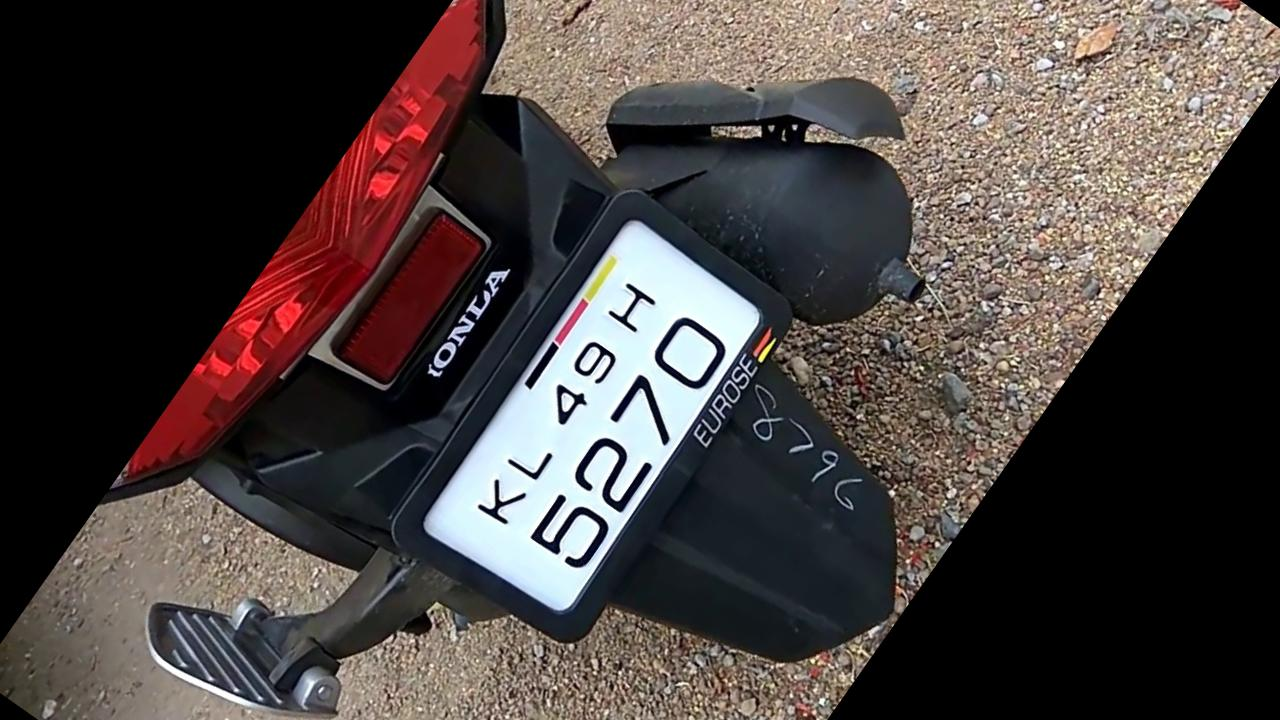plate: (387, 182, 814, 652)
